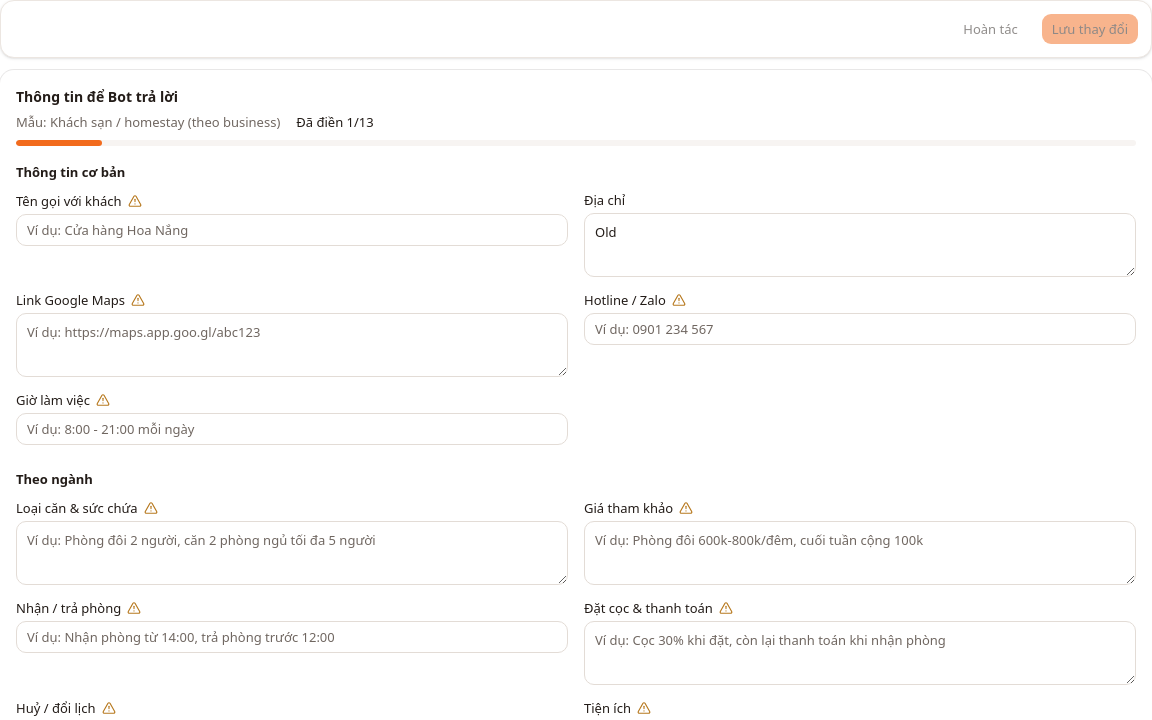
Scenario: BusinessProfileForm › shows the saved values again after the save and disables Save
Expected: the field labelled "Tên gọi với khách" is shown, [16,214,568,246]
Clear the text box labelled "Địa chỉ": (860, 245) [584,213,1136,277]
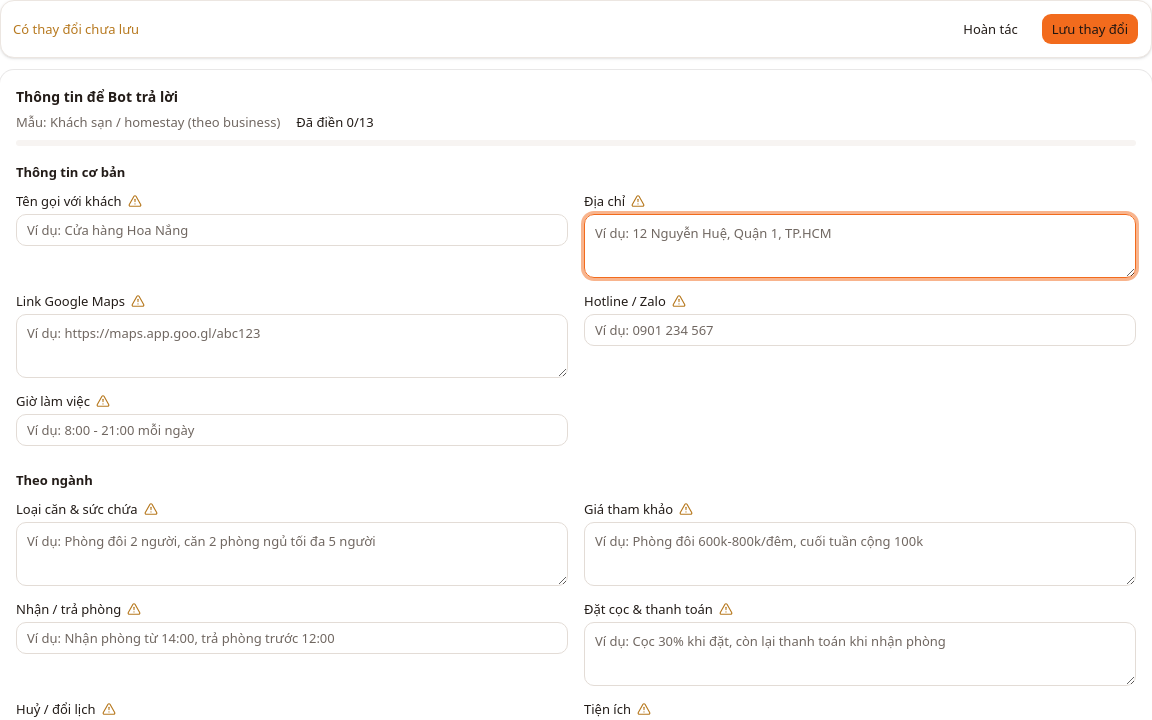
In the text box labelled "Địa chỉ": (860, 246) [584,214,1136,278], type "New"
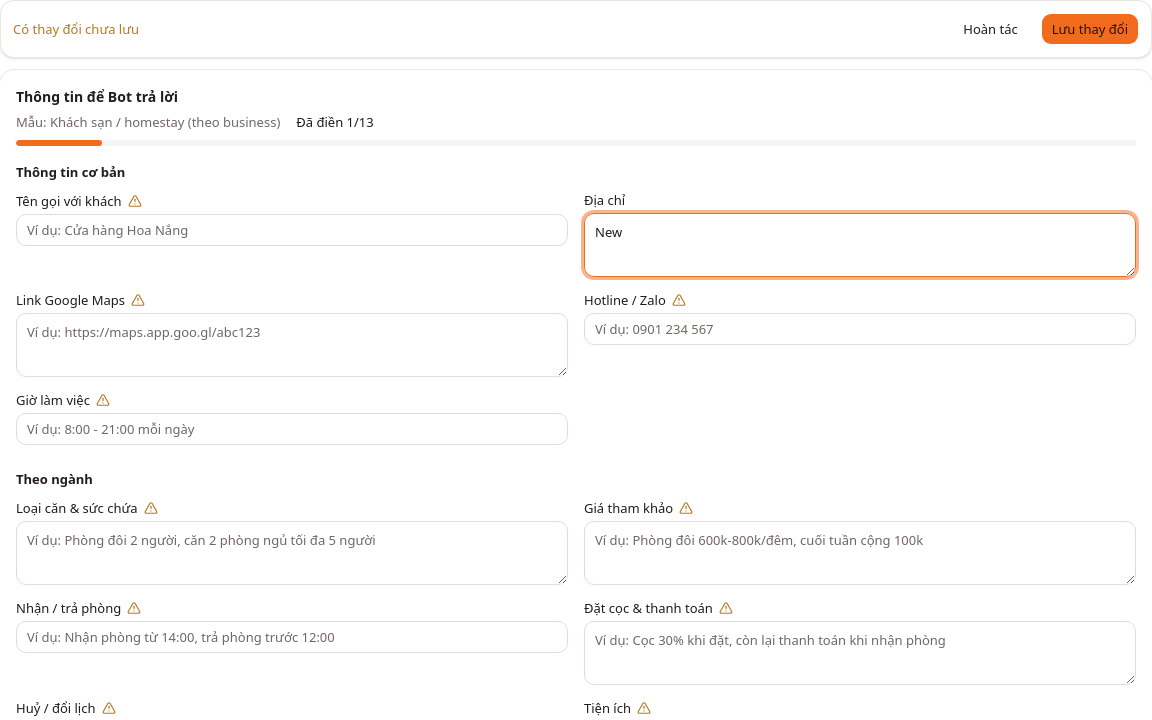
Click the button "Lưu thay đổi": (1090, 29) [1041,13,1139,45]
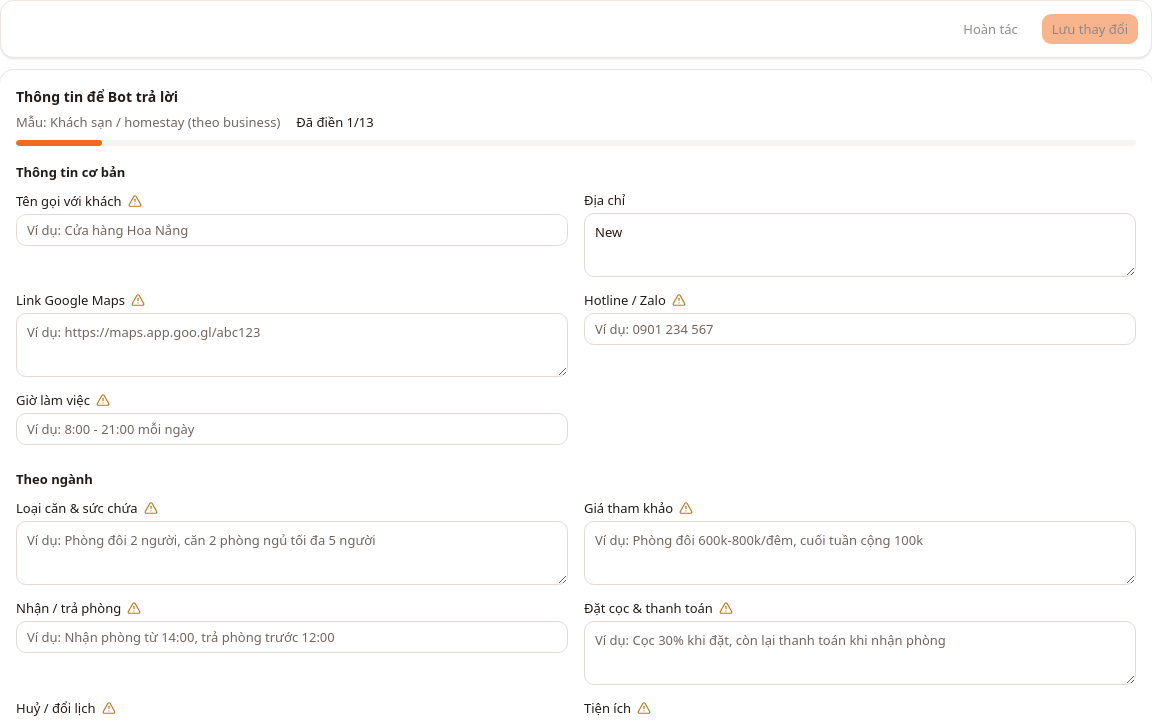
Result: the button "Lưu thay đổi" is disabled at [1041,13,1139,45]
